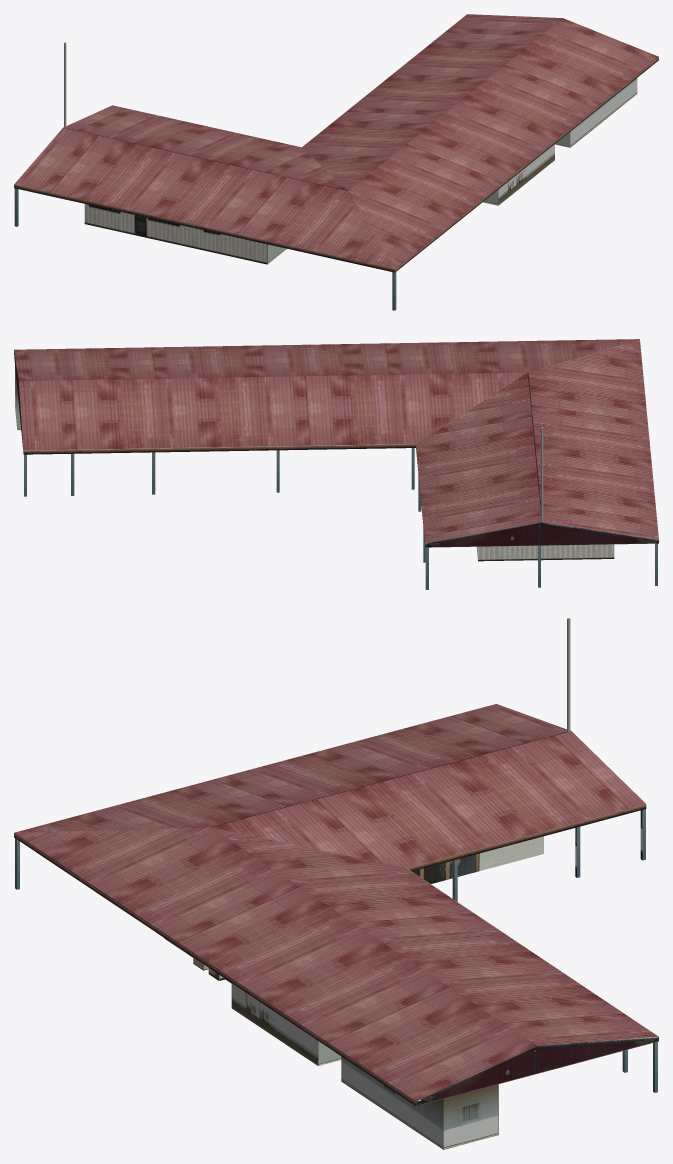
The model's file is llmg_bld1.gltf.
3 renders of one model, top to bottom at view 1: azimuth 30°, elevation 25°; view 2: azimuth 150°, elevation 25°; view 3: azimuth 270°, elevation 25°, orthographic. The views are drawn at different scales.
Parts seen in each view (by area): view 1: node1, node2; view 2: node1, node2; view 3: node1, node2.
Part boxes in pixels (<box>): node1: <box>14,14,658,310</box>; node2: <box>84,78,637,264</box>; node1: <box>14,339,658,589</box>; node2: <box>15,366,614,561</box>; node1: <box>14,704,658,1106</box>; node2: <box>164,836,543,1149</box>.
Size of the model in its own units: 37.83 by 8.5 by 25.93.
